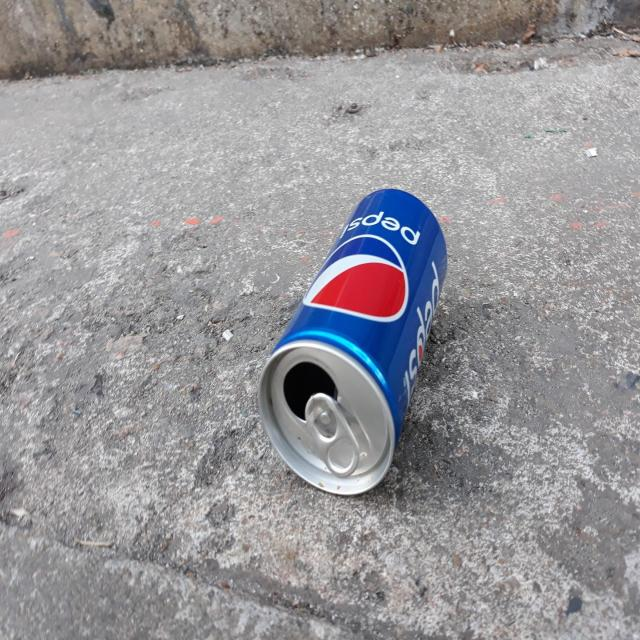can: (259, 188, 448, 495)
